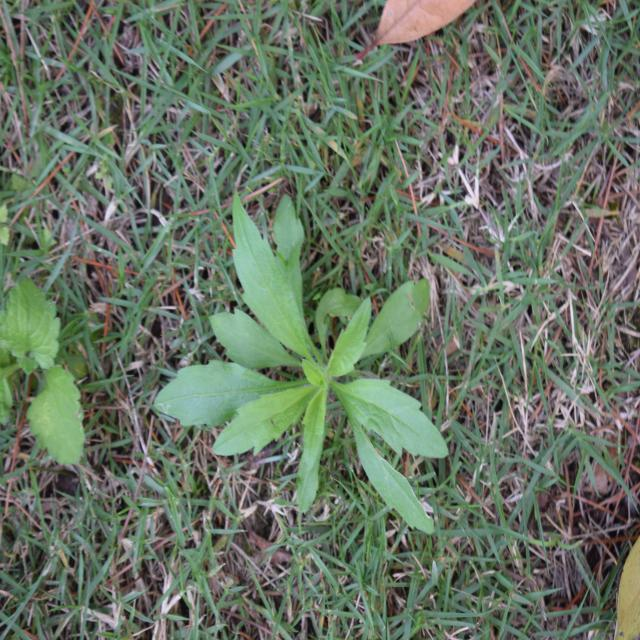horseweed: (170, 210, 456, 544)
